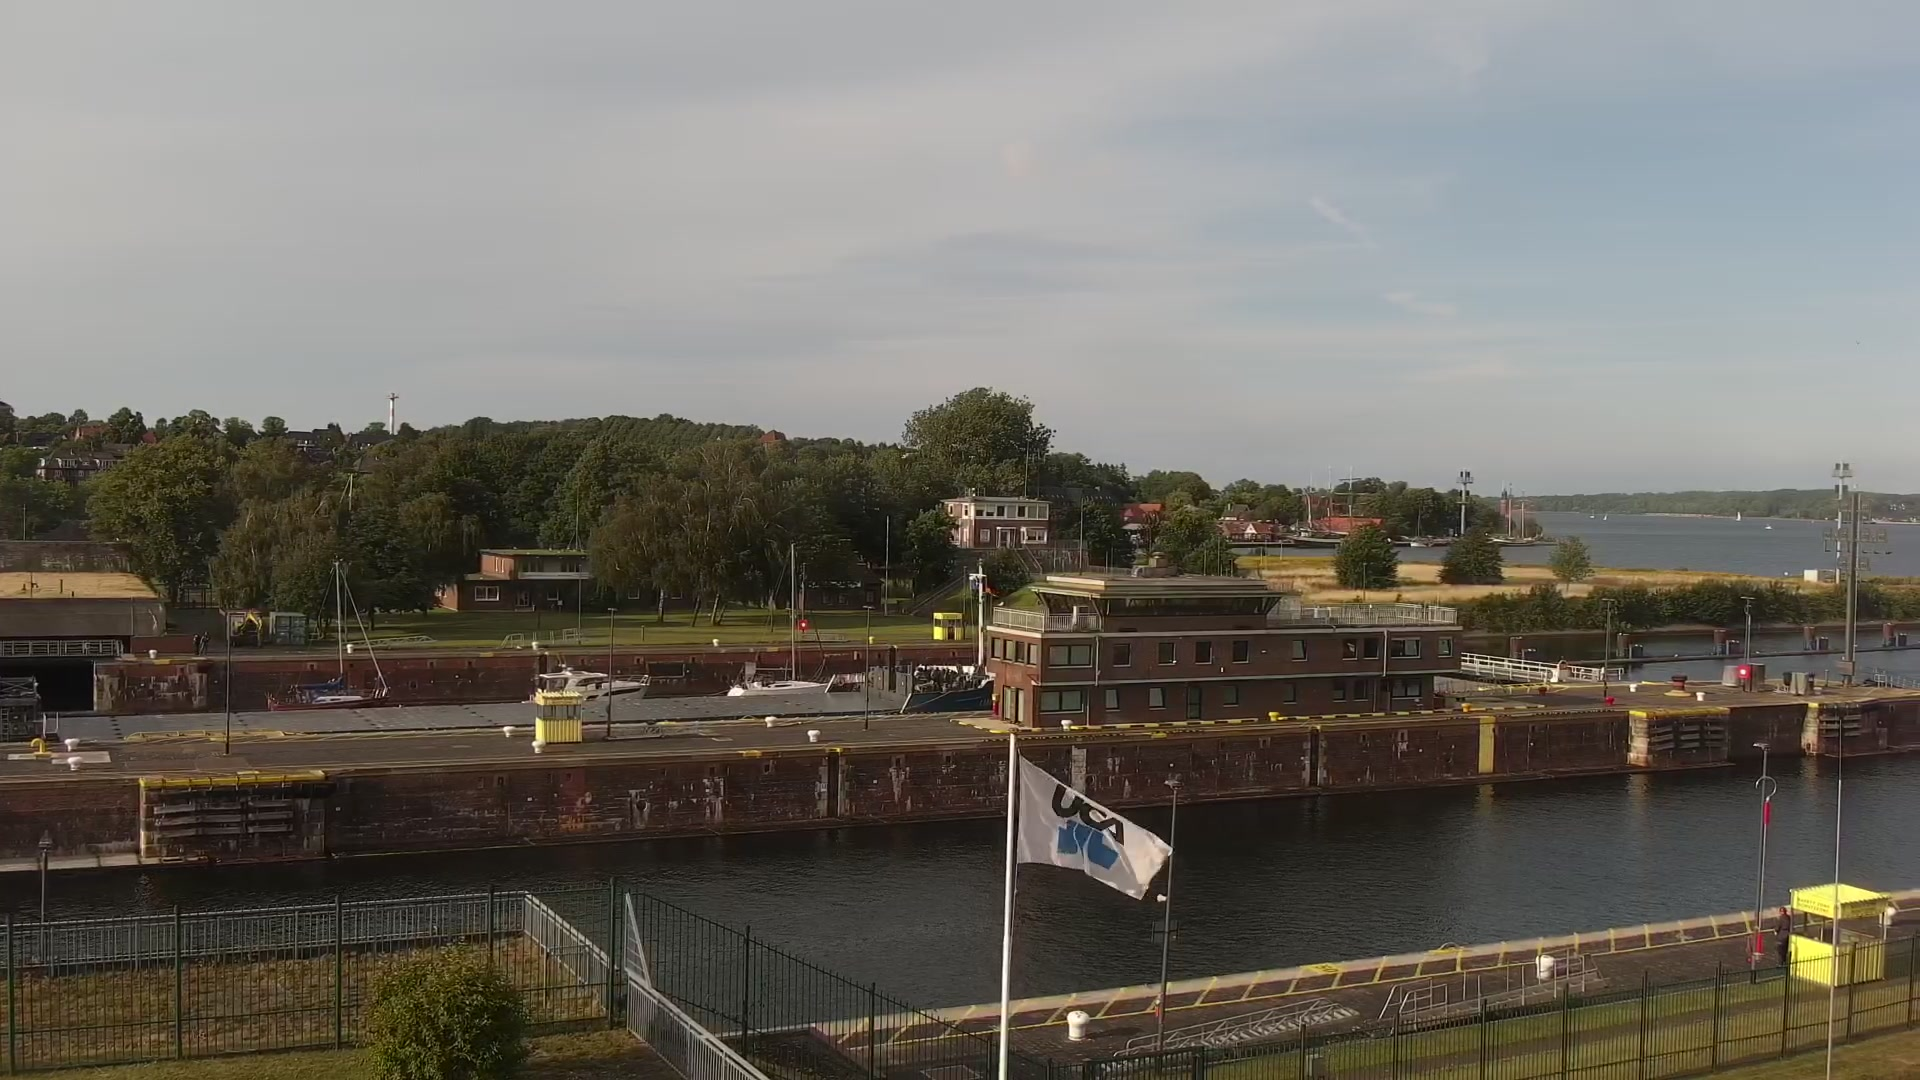human: (1773, 905, 1791, 967), (198, 629, 210, 656), (191, 632, 200, 656)
land: (229, 607, 264, 649)
sea: (1, 553, 994, 741), (265, 552, 396, 712), (726, 541, 835, 699), (521, 651, 650, 702), (1286, 466, 1363, 547), (1491, 486, 1536, 545), (1409, 503, 1434, 547), (1589, 507, 1596, 519), (1735, 510, 1741, 521), (1764, 523, 1772, 530), (1602, 512, 1608, 520)
